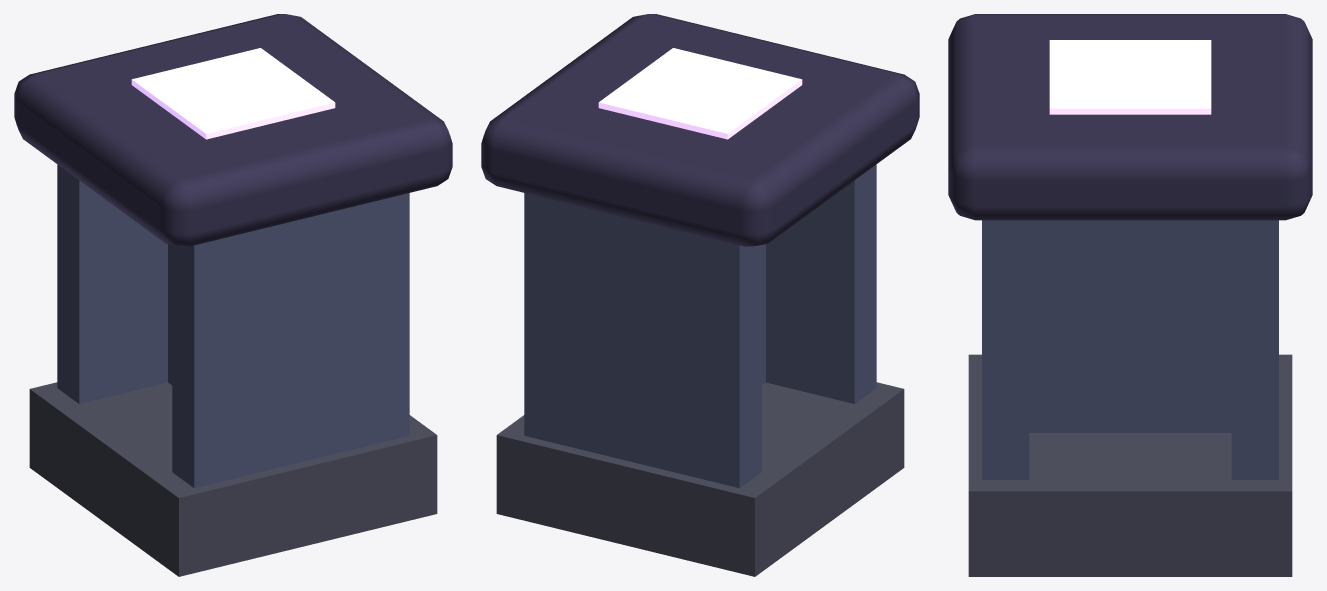
Rendered from pfosten_sockel.glb.
3 renders of one model, left to right at view 1: azimuth 30°, elevation 25°; view 2: azimuth 150°, elevation 25°; view 3: azimuth 270°, elevation 25°, orthographic. The views are drawn at different scales.
Parts seen in each view (by area): view 1: pfosten_sockel; view 2: pfosten_sockel; view 3: pfosten_sockel.
Boxes of the visible parts, left/top/right/bottom form: pfosten_sockel: left=14, top=14, right=452, bottom=576; pfosten_sockel: left=481, top=14, right=919, bottom=576; pfosten_sockel: left=948, top=14, right=1312, bottom=576.
Bounding box in the file's own units: 0.27 × 0.355 × 0.27.
